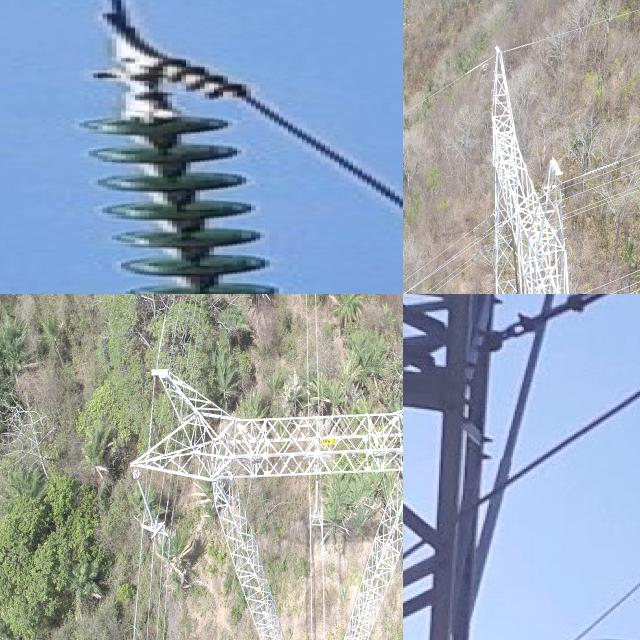杆塔: (119, 349, 403, 640), (403, 294, 546, 640), (479, 32, 591, 294)
正常电缆: (156, 53, 403, 238)
正常绝缘子: (43, 80, 341, 294), (132, 468, 159, 532), (510, 219, 521, 294), (314, 462, 319, 519)
